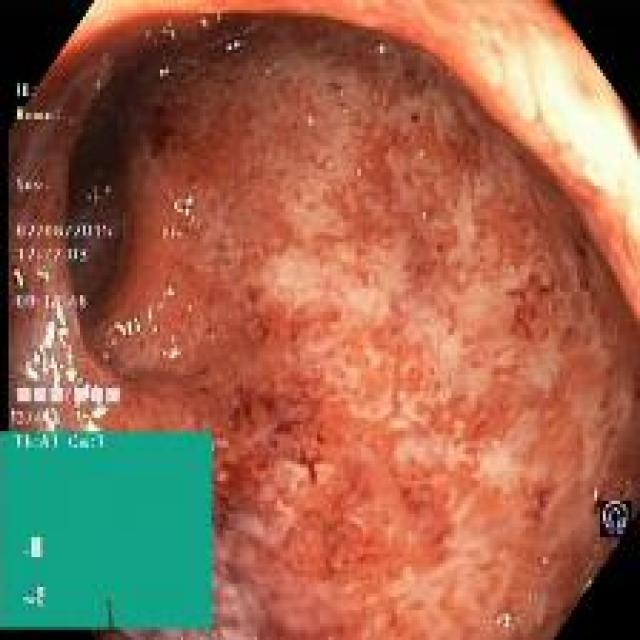ulcerative-colitis-grade-3: (11, 15, 640, 638)
